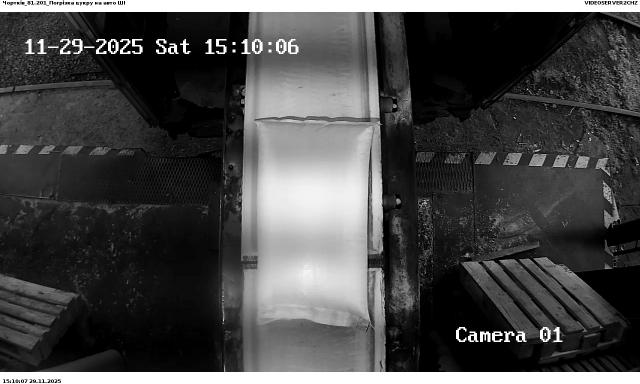bag: (254, 119, 375, 331)
